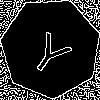Y: (26, 23, 79, 80)
